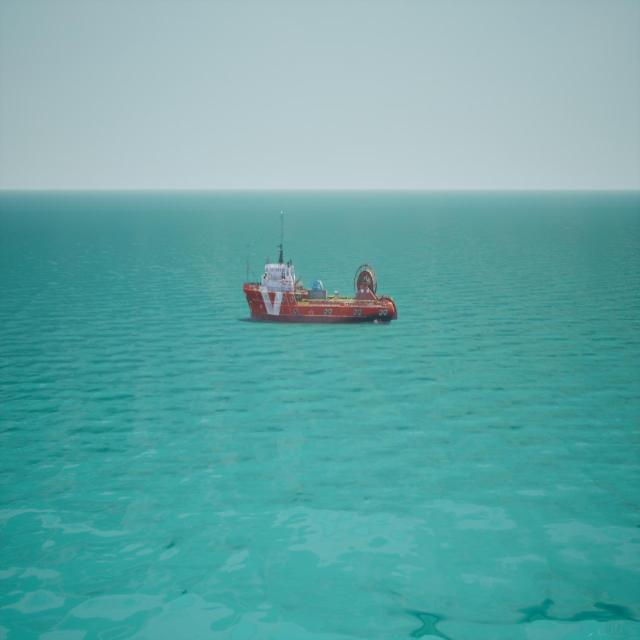tug boat: (241, 213, 397, 327)
